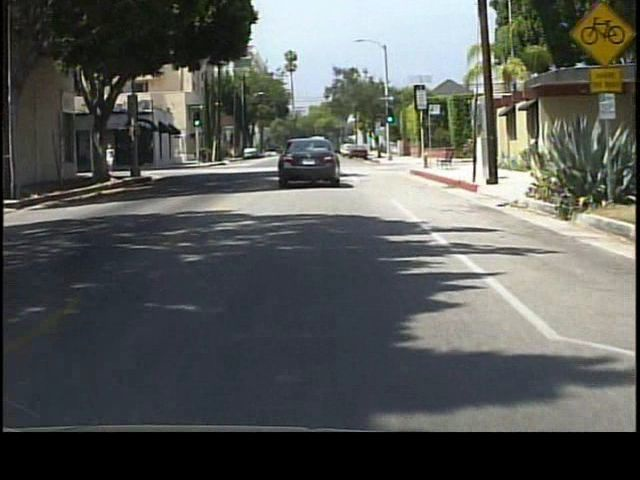person: (105, 139, 119, 176)
